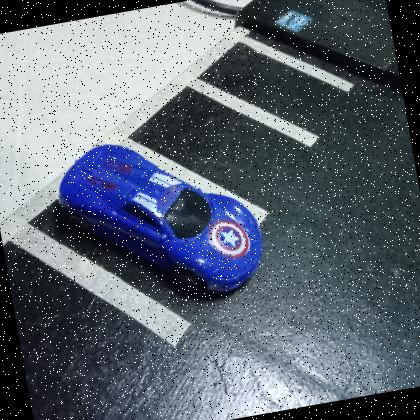Car: (49, 119, 273, 318)
